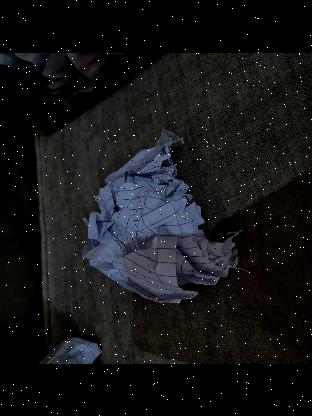Others: (80, 132, 236, 306)
